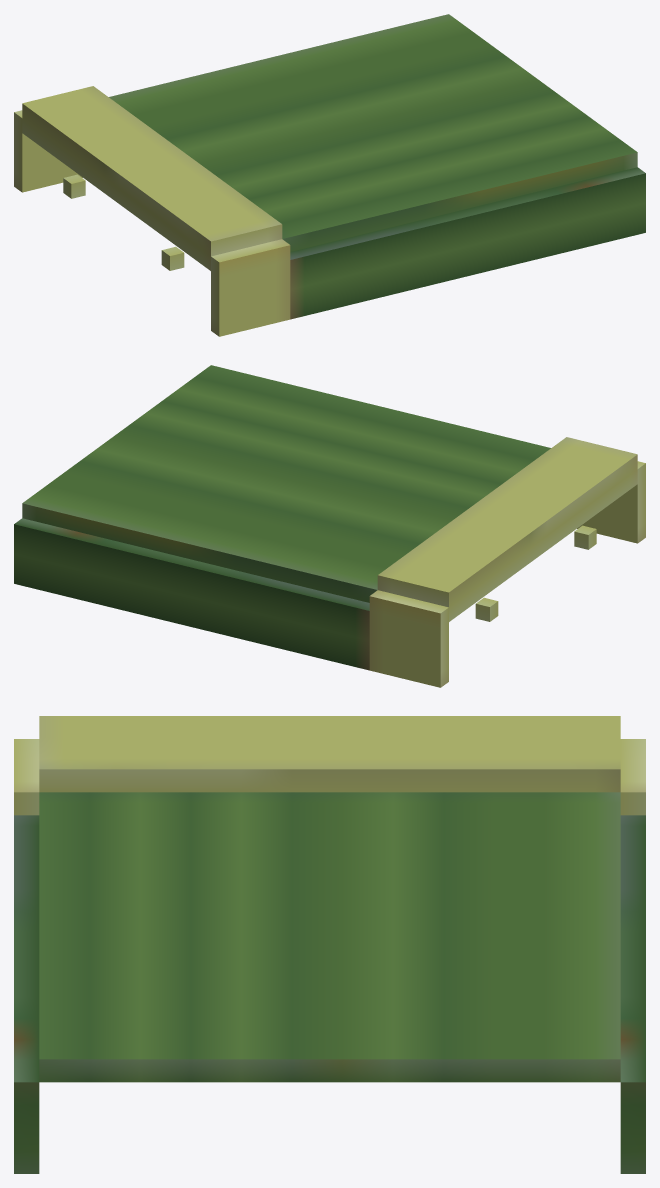
File: BlanketGreen_00.obj
3 renders of one model, top to bottom at view 1: azimuth 30°, elevation 25°; view 2: azimuth 150°, elevation 25°; view 3: azimuth 270°, elevation 25°, orthographic. The views are drawn at different scales.
Parts seen in each view (by area): view 1: BlanketGreen_00; view 2: BlanketGreen_00; view 3: BlanketGreen_00.
Boxes of the visible parts, x1,y1,x2,y2 form: BlanketGreen_00: [14, 14, 645, 336]; BlanketGreen_00: [14, 365, 645, 687]; BlanketGreen_00: [14, 716, 645, 1173].
Bounding box in the file's own units: 1.5 × 0.3 × 1.25.
